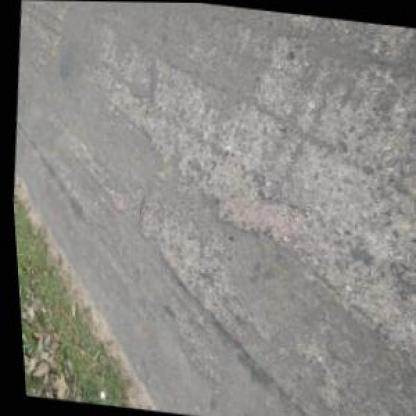pothole: (122, 190, 223, 305), (191, 150, 298, 242)
